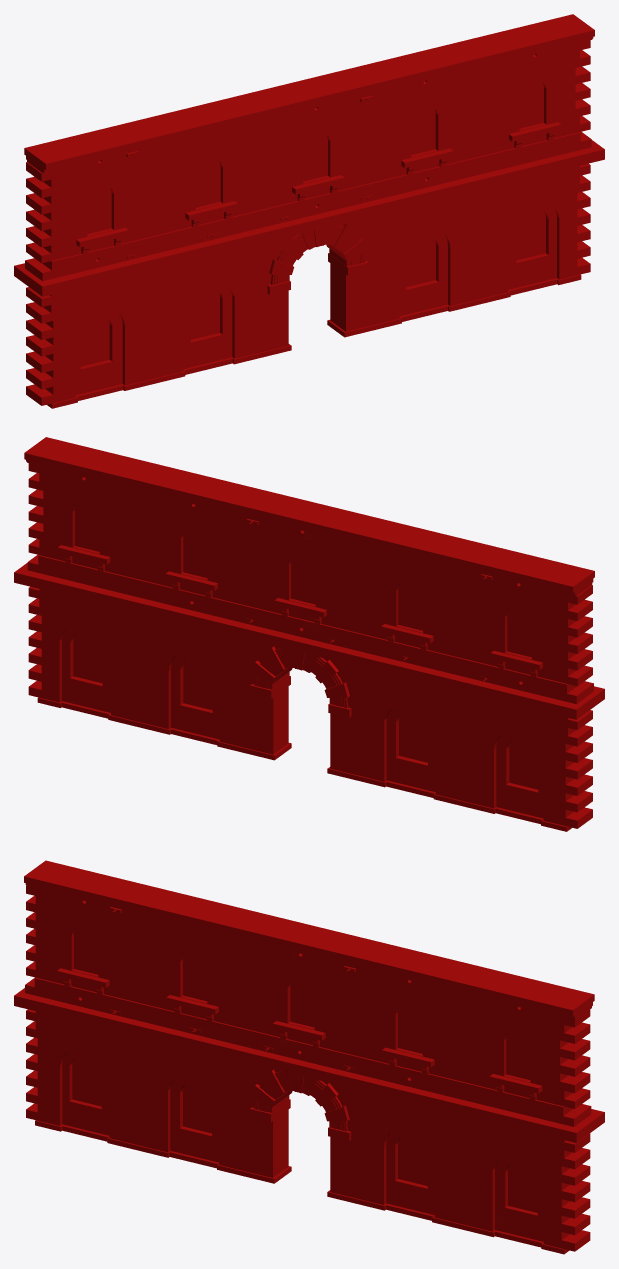
File: Combine_Facade_Texture_Test.fbx
3 renders of one model, top to bottom at view 1: azimuth 30°, elevation 25°; view 2: azimuth 150°, elevation 25°; view 3: azimuth 330°, elevation 25°, orthographic.
Parts seen in each view (by area): view 1: Cube.6803; view 2: Cube.6803; view 3: Cube.6803.
Part boxes in pixels (x1=…): Cube.6803: x1=14, y1=14, x2=604, y2=408; Cube.6803: x1=14, y1=437, x2=604, y2=831; Cube.6803: x1=14, y1=860, x2=604, y2=1254.
Size of the model in its own units: 14.66 by 1.29 by 6.19.
